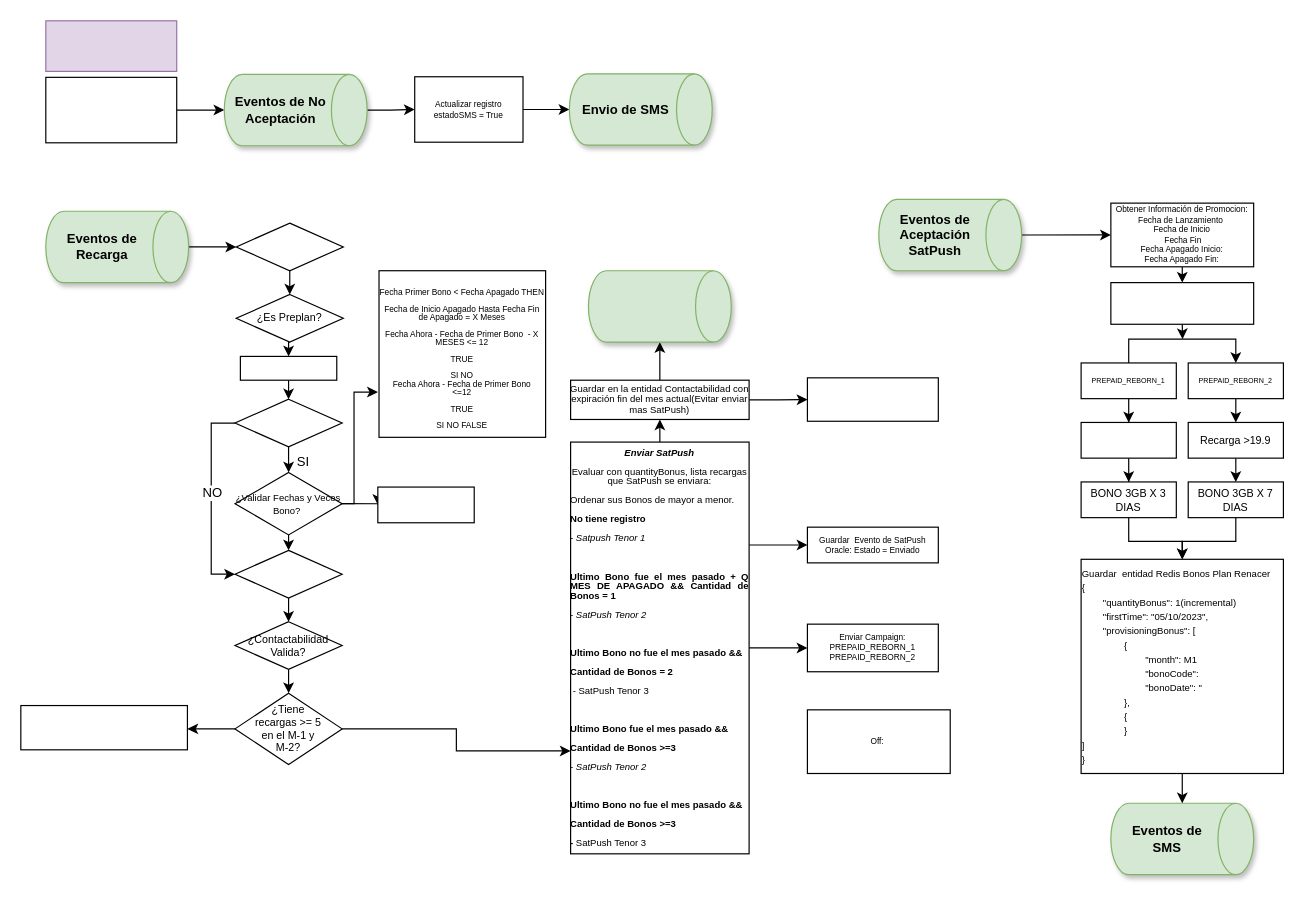
The diagram is 1304 pixels wide and 903 high, and some of its shapes have lost their labels. The centre of each missing label's shape, as x and y in pixels:
"Actualizar Evento SatPush Oracle Estado = Aceptado" goes at (x=1182, y=302).
"Entidad Redis Bonos Plan Renacer" goes at (x=425, y=504).
"Enviar SatPush" goes at (x=660, y=307).
"H:CAMPAIGNS:PREPAIDREBORN CONTACTABILITY.PHONE_NUMBER" goes at (x=872, y=399).
"Loading Process(Camel)" goes at (x=111, y=45).
"Obtener Info de Promoción" goes at (x=288, y=367).
"Obtener todos eventos >= +48 h con estado Enviado estadoSMS = False" goes at (x=111, y=109).
"Recarga entre 5 y 19.9" goes at (x=1128, y=439).
"Validar en la entidad H:CAMPAIGNS:RECHARGE.PHONE_NUMBER por fecha de recarga" goes at (x=103, y=727).
"¿Es Prepago?" goes at (x=289, y=246).
"¿Recarga >=5?" goes at (x=288, y=573).
"¿Registrado Entidad Bonos?" goes at (x=288, y=422).
